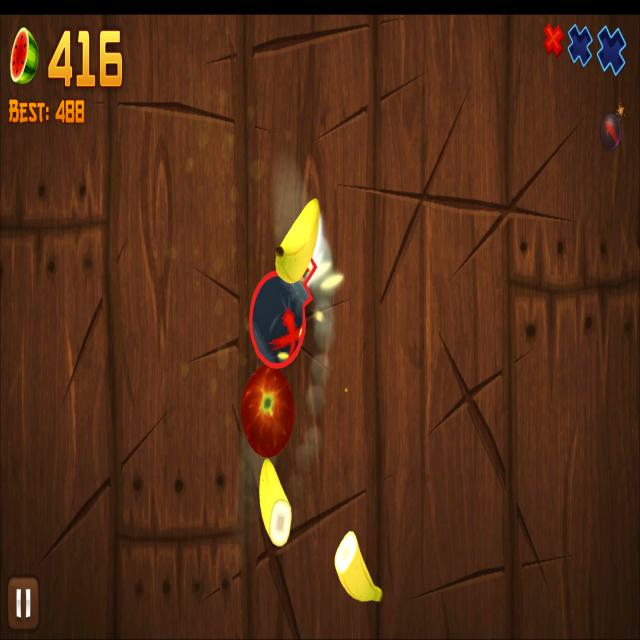bomb: (248, 257, 316, 369)
fruit: (242, 367, 294, 458), (275, 197, 320, 284)
